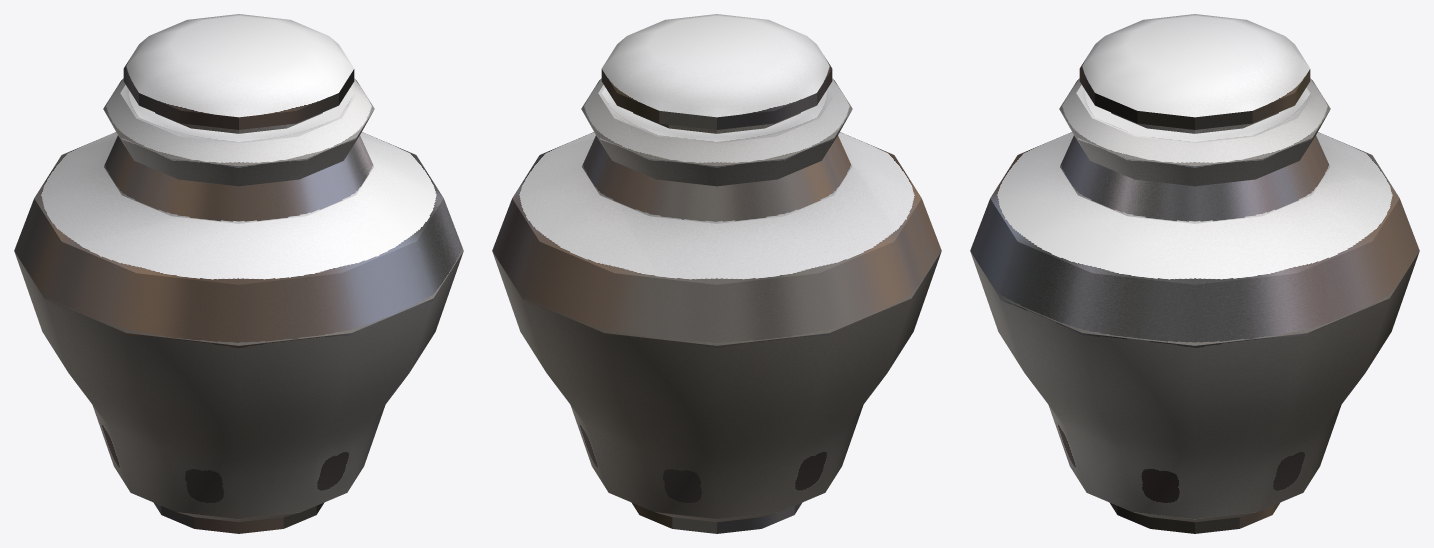
File: urn02.fbx
3 renders of one model, left to right at view 1: azimuth 30°, elevation 25°; view 2: azimuth 150°, elevation 25°; view 3: azimuth 270°, elevation 25°, orthographic.
Visible parts, largest first — view 1: urn.001; view 2: urn.001; view 3: urn.001.
Part boxes in pixels (x1,y1,x2,y2): urn.001: (14, 14, 463, 533); urn.001: (492, 14, 941, 533); urn.001: (970, 14, 1419, 533).
Size of the model in its own units: 0.2731 by 0.2731 by 0.3019.
1 material, 1 textured.
